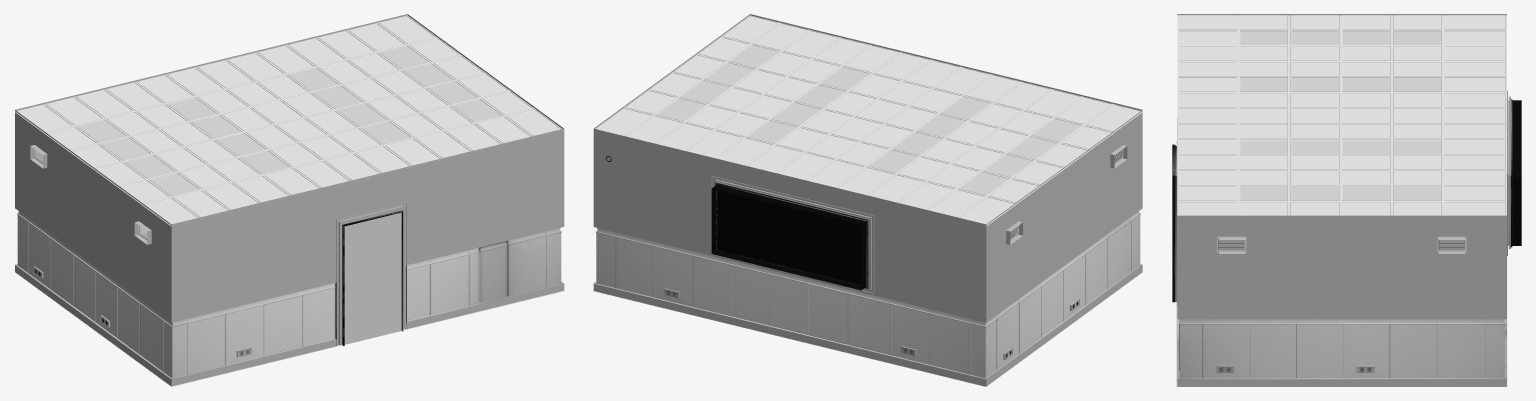
Rendered from MaxExportedFBXFile.fbx.
3 views of the same model, side by side, from view 1: azimuth 30°, elevation 25°; view 2: azimuth 150°, elevation 25°; view 3: azimuth 270°, elevation 25° (orthographic). The views are drawn at different scales.
Visible parts, largest first — view 1: wr_walls, wr_ceiling, wr_wallPanels, wr_ceilingL, wr_door, wr_stuff, wr_floor; view 2: wr_ceiling, wr_walls, wr_wallPanels, wr_ceilingL, BlackScreen, wr_stuff; view 3: wr_ceiling, wr_walls, wr_wallPanels, wr_ceilingL, wr_stuff, wr_lattices, wr_floor, BlackScreen.
Boxes of the visible parts, left/top/right/bottom form: wr_walls: left=15, top=14, right=564, bottom=386; wr_ceiling: left=14, top=15, right=561, bottom=225; wr_wallPanels: left=15, top=211, right=563, bottom=379; wr_ceilingL: left=77, top=46, right=501, bottom=195; wr_door: left=344, top=212, right=401, bottom=344; wr_stuff: left=336, top=202, right=406, bottom=346; wr_floor: left=15, top=272, right=564, bottom=386; wr_ceiling: left=595, top=15, right=1143, bottom=225; wr_walls: left=593, top=14, right=1142, bottom=386; wr_wallPanels: left=593, top=211, right=1142, bottom=379; wr_ceilingL: left=657, top=45, right=1081, bottom=194; BlackScreen: left=715, top=182, right=869, bottom=289; wr_stuff: left=711, top=176, right=874, bottom=293; wr_ceiling: left=1177, top=15, right=1506, bottom=215; wr_walls: left=1177, top=14, right=1506, bottom=386; wr_wallPanels: left=1177, top=118, right=1506, bottom=379; wr_ceilingL: left=1240, top=31, right=1441, bottom=200; wr_stuff: left=1172, top=90, right=1521, bottom=304; wr_lattices: left=1217, top=236, right=1466, bottom=252; wr_floor: left=1176, top=240, right=1507, bottom=386; BlackScreen: left=1509, top=96, right=1510, bottom=248.
Size of the model in its own units: 323 by 125 by 231.
